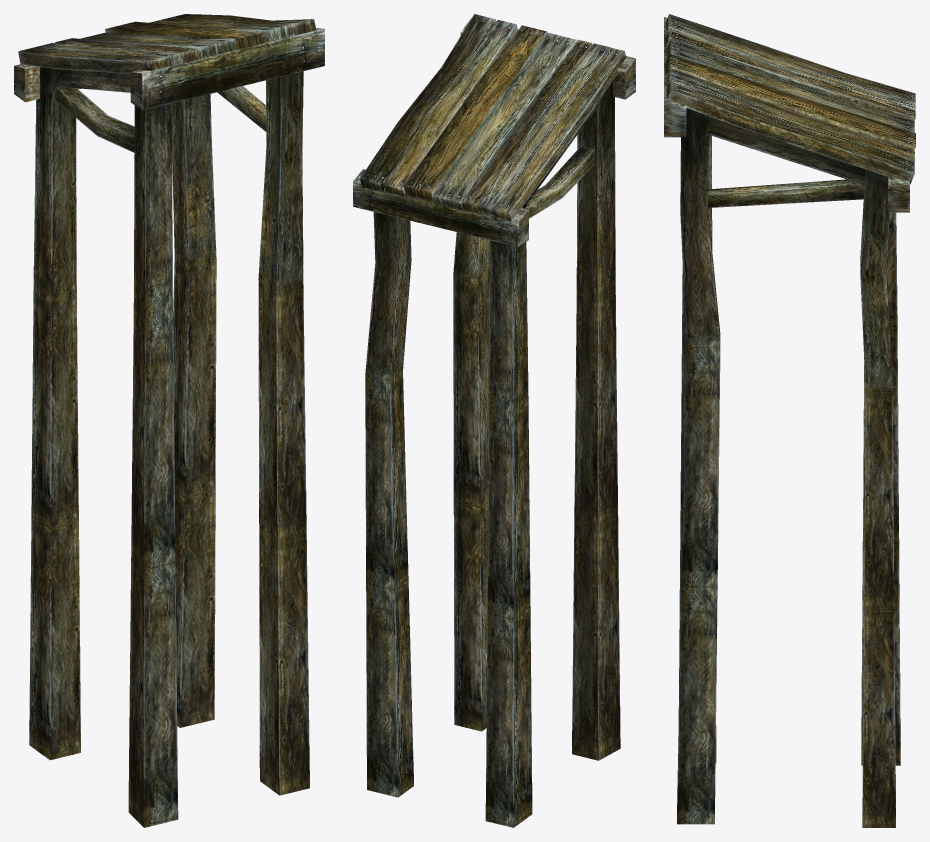
Rendered from most_7.glb.
3 renders of one model, left to right at view 1: azimuth 30°, elevation 25°; view 2: azimuth 150°, elevation 25°; view 3: azimuth 270°, elevation 25°, orthographic. The views are drawn at different scales.
Parts seen in each view (by area): view 1: most_7; view 2: most_7; view 3: most_7.
Boxes of the visible parts, bbox=[...] form: most_7: bbox=[14, 14, 324, 827]; most_7: bbox=[353, 14, 635, 827]; most_7: bbox=[664, 14, 915, 827].
Size of the model in its own units: 3.38 by 13.53 by 4.19.
5 materials, 5 textured.
